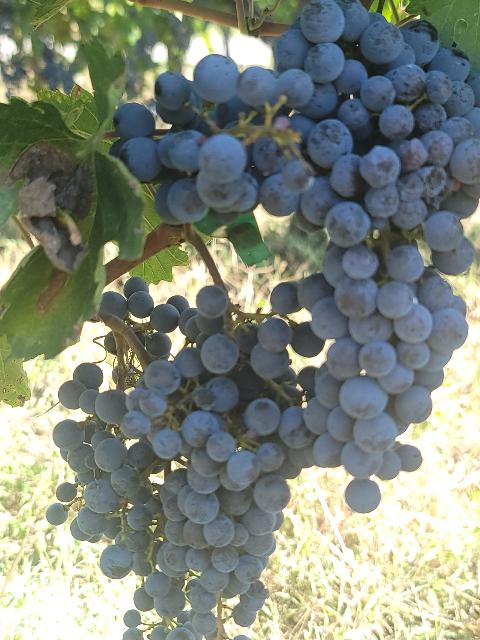grapes: (109, 0, 480, 286), (136, 285, 319, 640), (271, 244, 469, 512), (46, 331, 161, 581)
